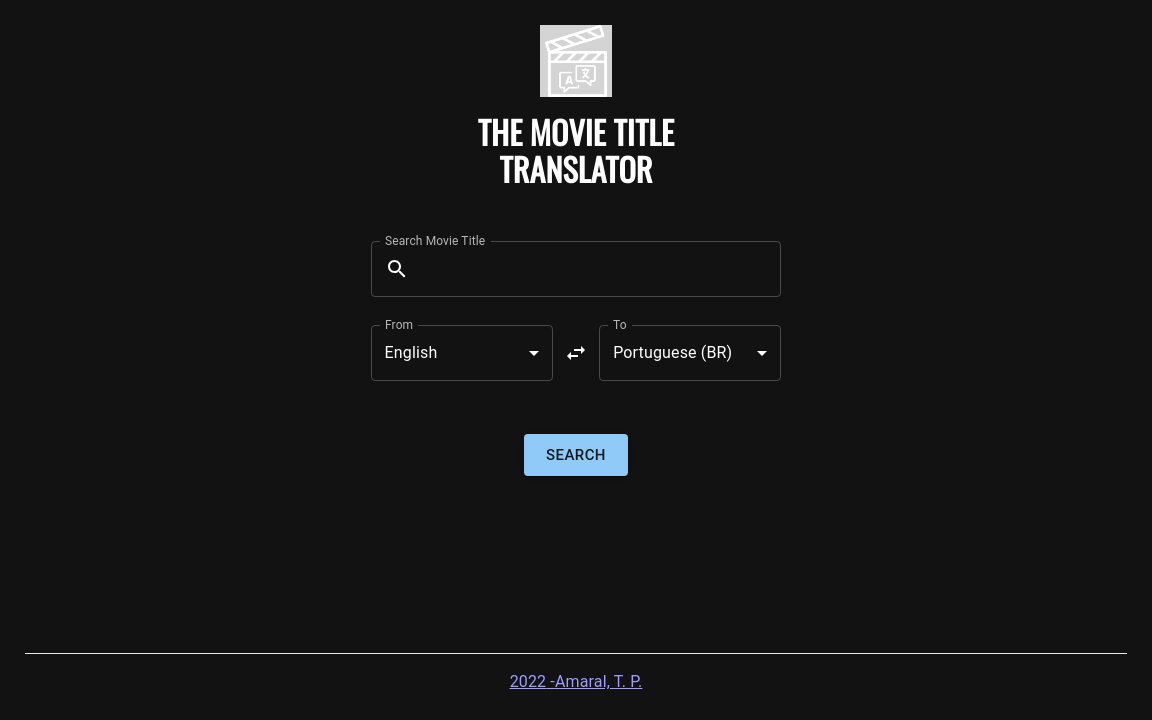
Scenario: basic functionalities › swap source and translation idioms
Click the element showing "English": click(462, 353) [371, 325, 553, 381]
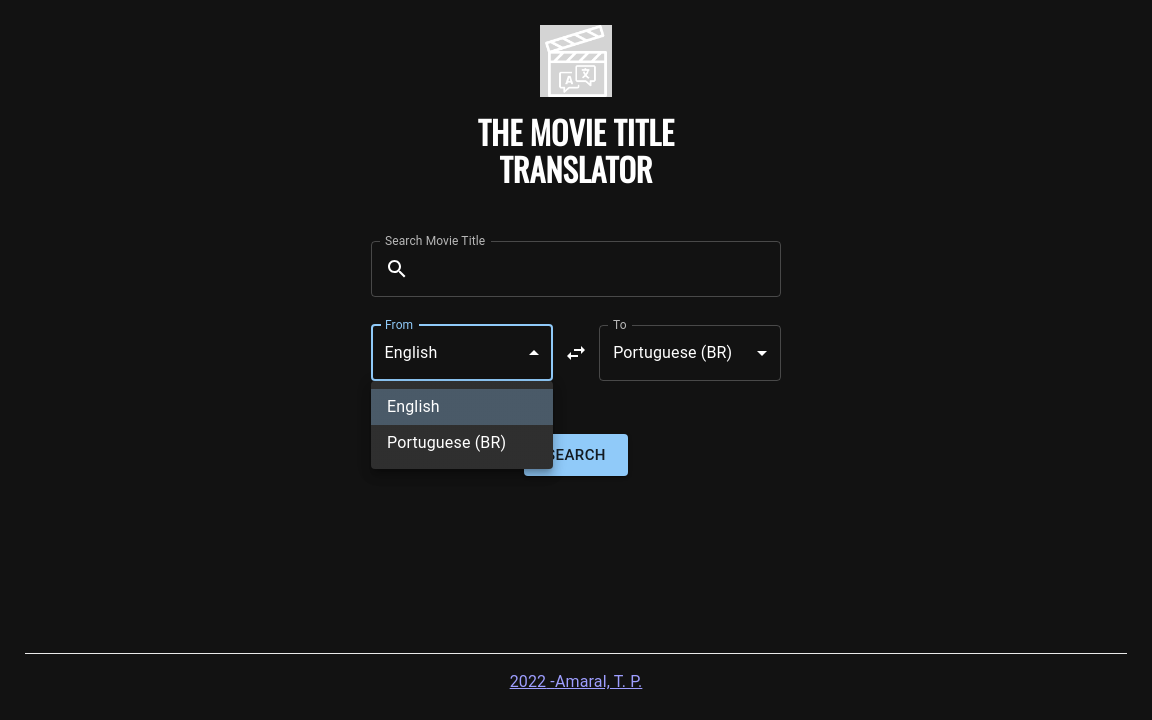
Click the option "English": click(462, 407) [371, 389, 553, 425]
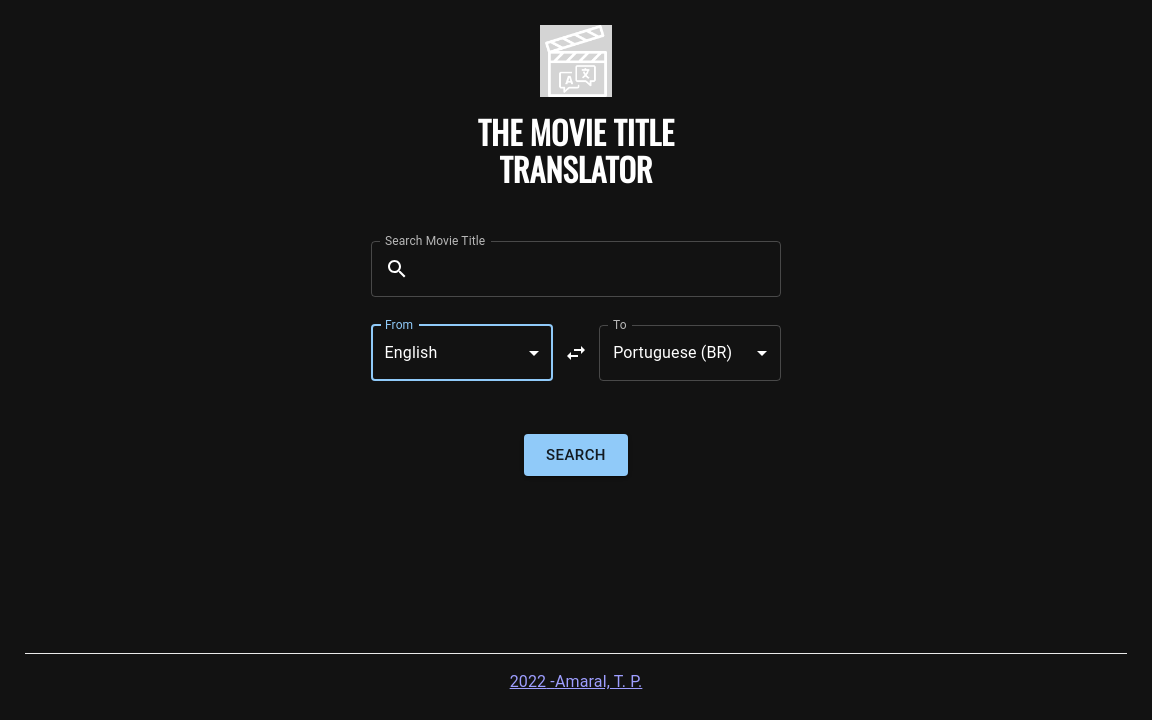
Click the element showing "Portuguese (BR)": click(690, 353) [599, 325, 781, 381]
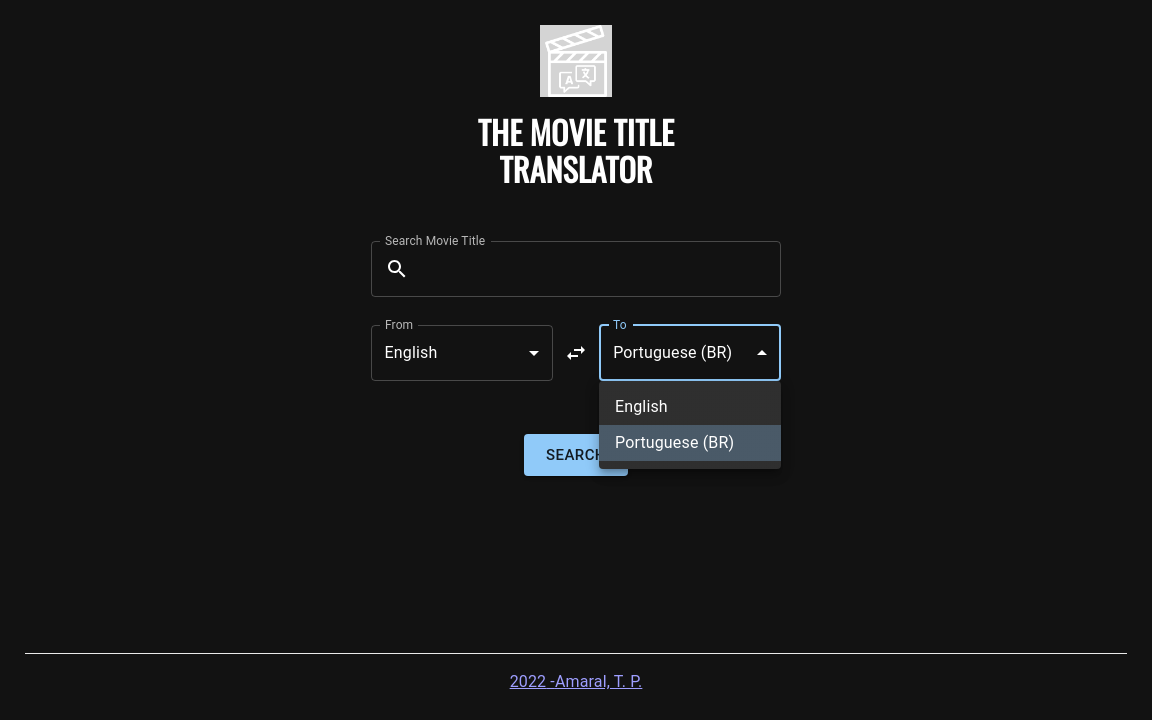
Click the option "Portuguese (BR)": click(690, 443) [599, 425, 781, 461]
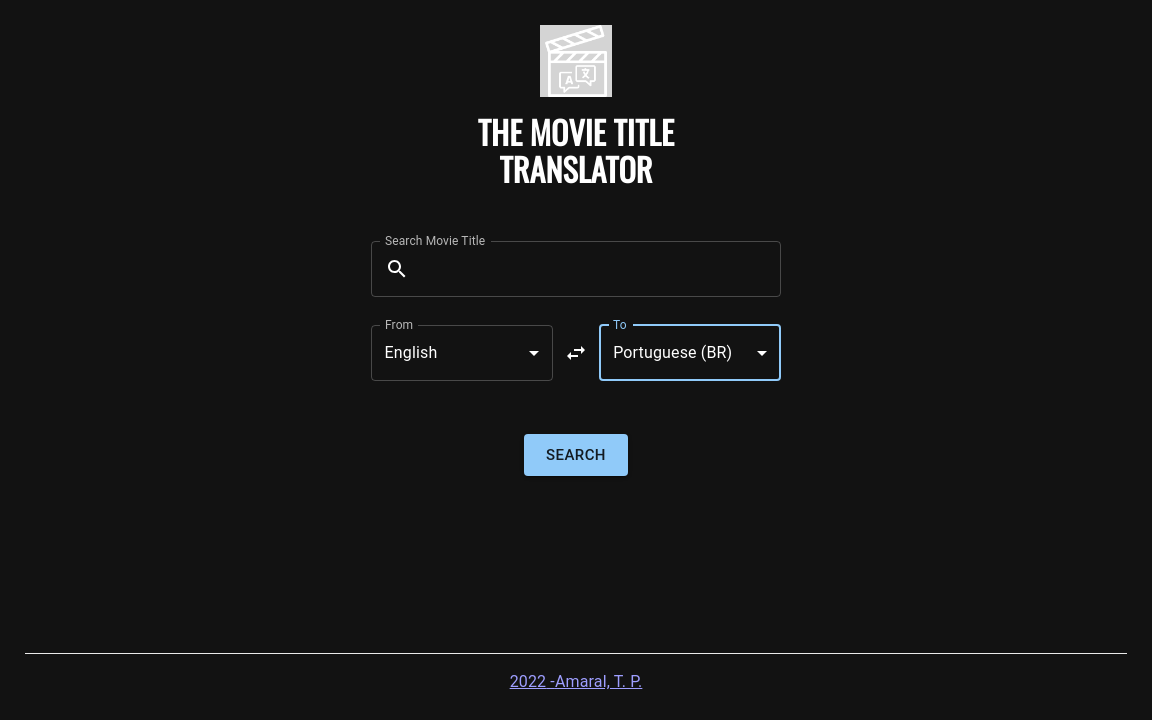
Click the button with id "swap-btn": click(576, 353) [556, 333, 596, 373]
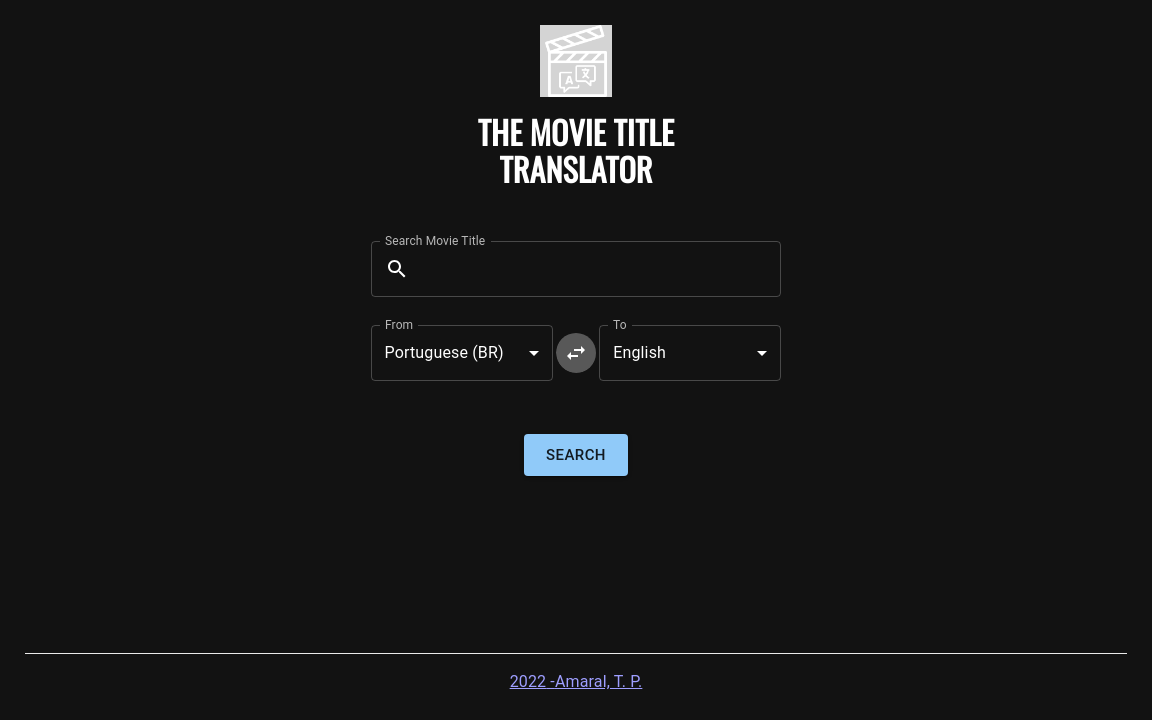
expect the dropdown "Portuguese (BR)" is shown: met, box [385, 344, 504, 362]
expect the dropdown "English" is shown: met, box [613, 344, 666, 362]
